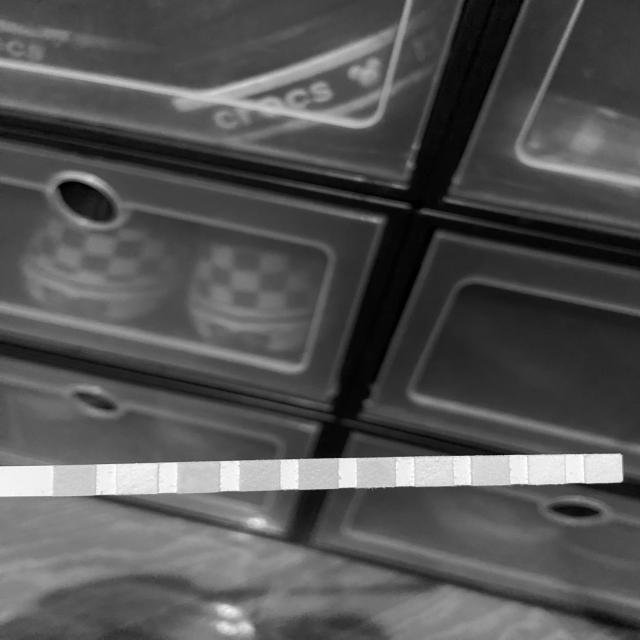Bilirubin: (119, 464, 155, 493)
Blood: (300, 461, 336, 488)
Glucose: (56, 466, 94, 495)
Ketone: (180, 463, 218, 492)
Leukocytes: (587, 456, 620, 482)
Nitrite: (531, 457, 564, 482)
Protein: (417, 458, 451, 484)
SpGravity: (241, 461, 278, 489)
Urobilinogen: (473, 457, 508, 484)
background: (0, 0, 640, 640)
pH: (360, 459, 394, 486)
strip: (1, 454, 624, 498)
